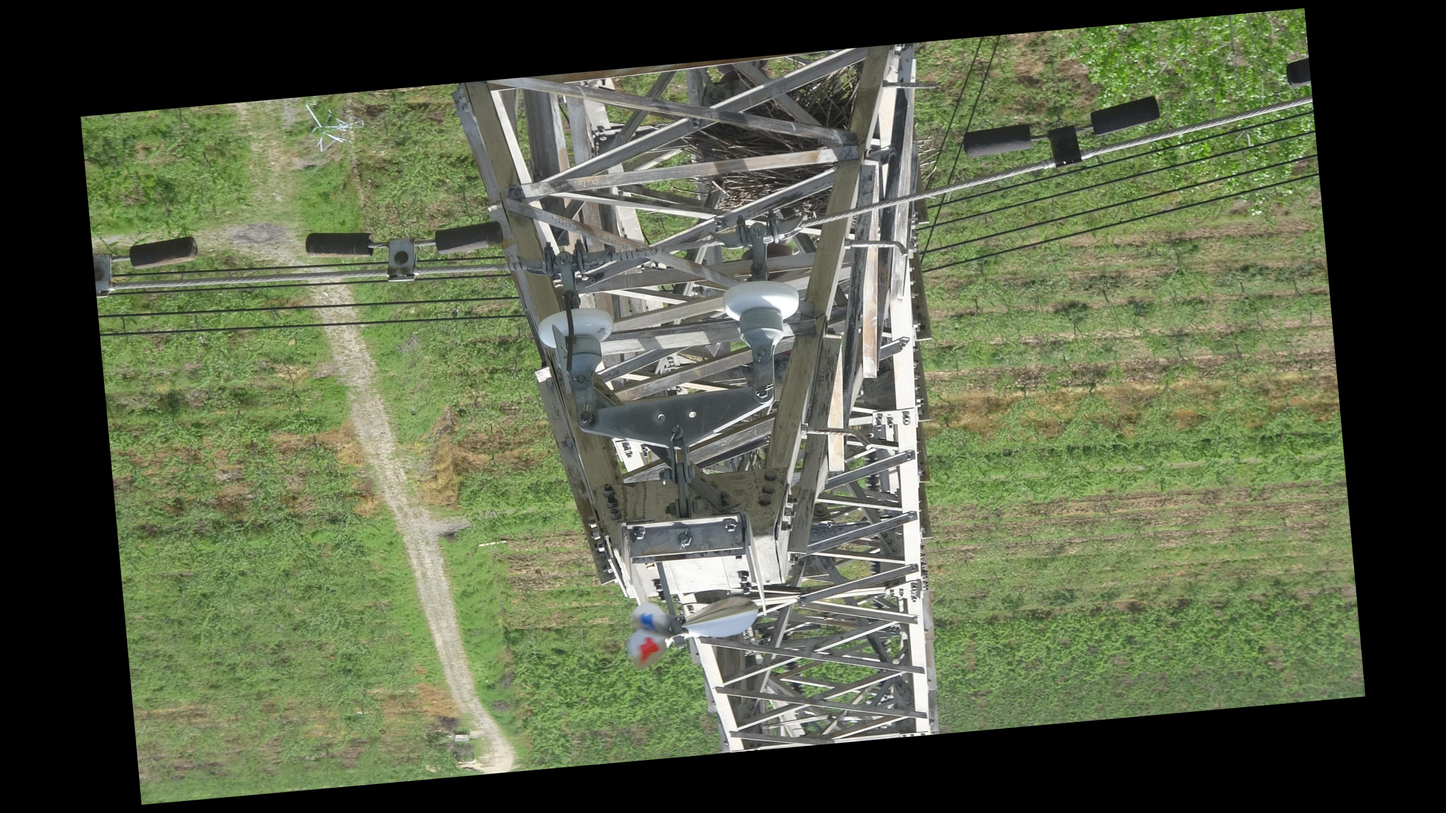damper_defect: (955, 90, 1170, 182), (300, 210, 509, 295), (92, 232, 206, 305)
